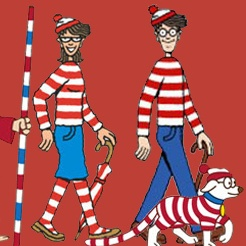waldo: (136, 3, 216, 155), (142, 2, 204, 130), (150, 6, 186, 60)
